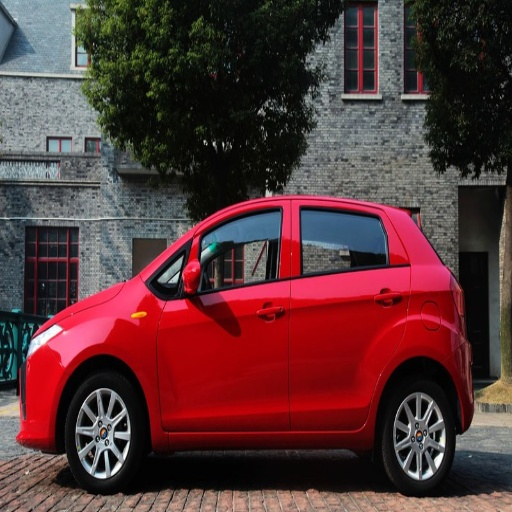front_left_door: (160, 202, 290, 432)
